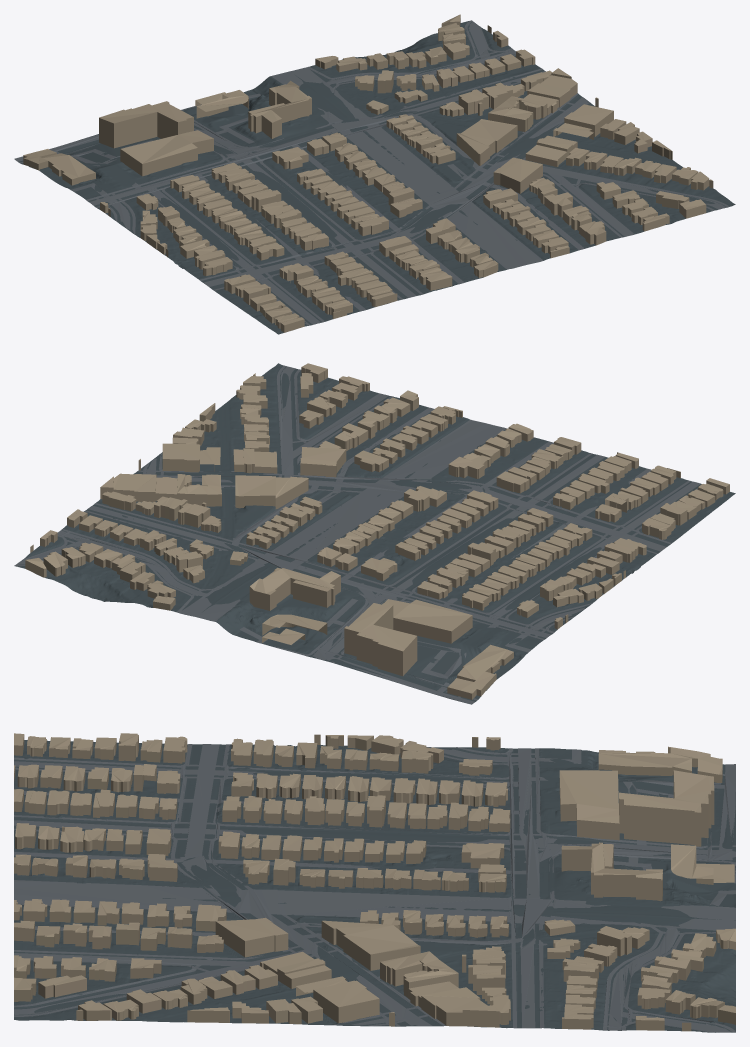
File: epsg26910-1422-10875.lod0.glb
3 renders of one model, top to bottom at view 1: azimuth 30°, elevation 25°; view 2: azimuth 150°, elevation 25°; view 3: azimuth 270°, elevation 25°, orthographic. The views are drawn at different scales.
Parts seen in each view (by area): view 1: epsg26910-1422-10875-lod0; view 2: epsg26910-1422-10875-lod0; view 3: epsg26910-1422-10875-lod0.
Boxes of the visible parts, x1,y1,x2,y2 form: epsg26910-1422-10875-lod0: [14, 14, 735, 334]; epsg26910-1422-10875-lod0: [14, 363, 735, 704]; epsg26910-1422-10875-lod0: [14, 733, 735, 1032].
Size of the model in its own units: 384 by 35.46 by 384.
